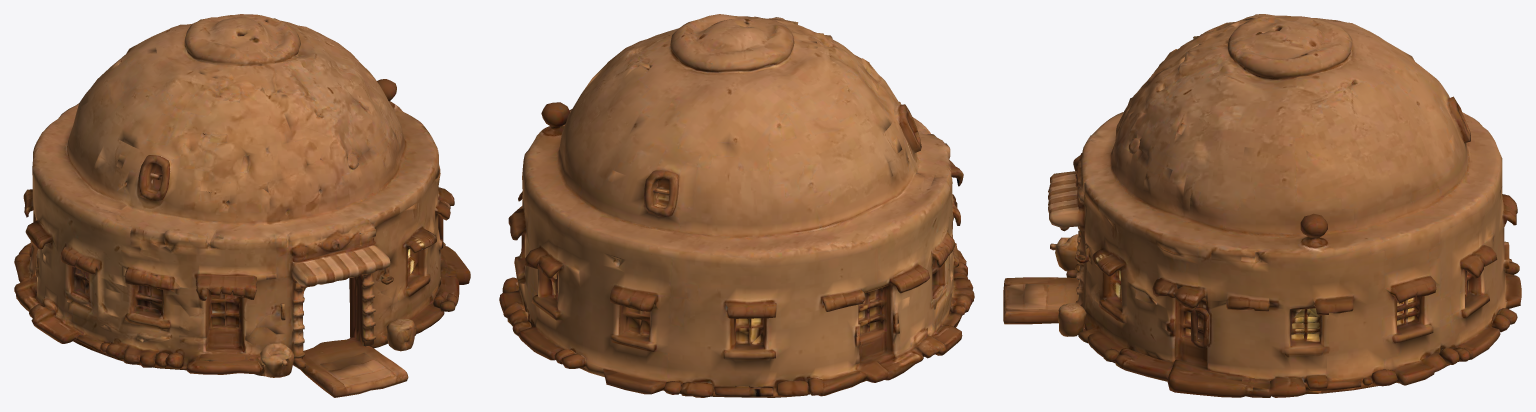
File: cantina.glb
3 views of the same model, side by side, from view 1: azimuth 30°, elevation 25°; view 2: azimuth 150°, elevation 25°; view 3: azimuth 270°, elevation 25° (orthographic). The views are drawn at different scales.
Visible parts, largest first — view 1: tripo_node_dad211dd-6e1d-42bc-839a-3f086636cd73; view 2: tripo_node_dad211dd-6e1d-42bc-839a-3f086636cd73; view 3: tripo_node_dad211dd-6e1d-42bc-839a-3f086636cd73.
Part boxes in pixels (x1,y1,x2,y2): tripo_node_dad211dd-6e1d-42bc-839a-3f086636cd73: (14,14,470,397); tripo_node_dad211dd-6e1d-42bc-839a-3f086636cd73: (499,14,974,397); tripo_node_dad211dd-6e1d-42bc-839a-3f086636cd73: (1003,14,1521,397).
Size of the model in its own units: 0.9131 by 0.5877 by 0.9782.
Materials: 1 (1 with a texture image).
